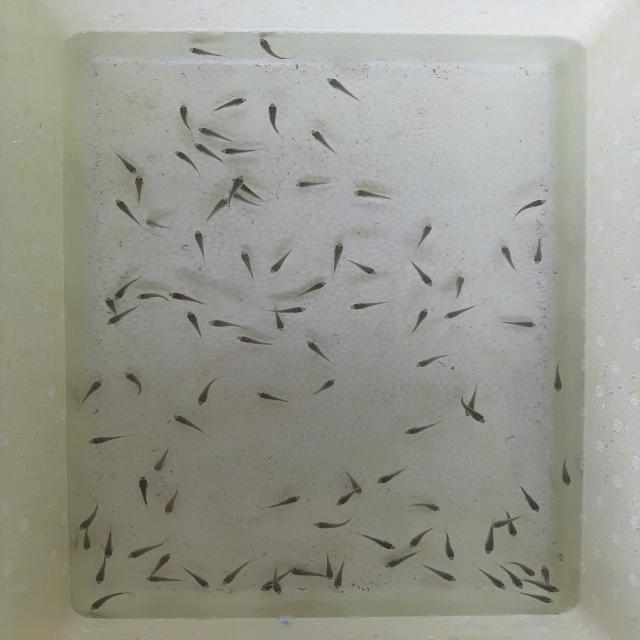fingerling: (323, 74, 369, 108), (169, 410, 217, 441), (253, 32, 294, 64), (508, 194, 550, 224), (301, 125, 342, 155), (258, 98, 290, 136), (254, 491, 308, 513), (406, 255, 439, 289), (76, 375, 106, 412), (88, 588, 133, 612), (180, 42, 231, 63), (196, 374, 228, 407), (220, 556, 253, 588), (267, 244, 299, 275), (187, 225, 212, 264), (120, 368, 148, 402), (407, 302, 434, 337), (208, 94, 250, 116), (410, 218, 437, 252), (411, 350, 454, 371), (252, 388, 297, 408), (108, 147, 140, 175), (442, 300, 481, 322), (517, 484, 545, 514), (494, 241, 520, 273), (355, 531, 396, 551), (327, 241, 348, 280), (291, 279, 329, 300), (202, 196, 230, 224), (77, 501, 104, 530), (406, 524, 436, 550), (476, 566, 506, 592), (402, 418, 443, 437), (162, 484, 186, 516), (350, 187, 395, 204), (400, 498, 442, 516), (84, 432, 131, 448), (310, 514, 357, 530), (304, 339, 335, 363), (151, 443, 175, 474), (288, 177, 337, 192), (234, 333, 276, 350), (421, 565, 458, 584), (238, 248, 258, 283), (196, 125, 237, 142), (136, 471, 154, 508), (374, 467, 407, 487), (492, 316, 538, 330), (167, 290, 207, 306), (438, 529, 458, 561), (130, 175, 151, 205), (183, 310, 204, 340), (449, 270, 470, 300), (219, 144, 270, 156), (530, 233, 548, 267), (350, 258, 380, 278), (141, 216, 176, 233), (548, 360, 565, 395), (310, 376, 339, 396), (124, 542, 154, 561), (557, 455, 574, 488), (205, 317, 245, 331), (133, 289, 168, 305), (114, 277, 137, 301), (91, 558, 110, 587), (347, 299, 389, 312), (111, 198, 134, 221), (188, 570, 214, 590), (152, 549, 174, 572), (142, 573, 188, 584), (176, 100, 191, 132), (382, 554, 412, 570), (190, 140, 218, 157), (466, 381, 483, 409), (102, 311, 129, 328), (482, 528, 498, 556), (229, 174, 244, 203), (102, 525, 114, 560), (170, 148, 193, 166), (287, 567, 324, 578), (323, 551, 336, 581), (282, 304, 312, 316), (532, 592, 554, 608), (78, 533, 95, 552), (333, 564, 345, 590), (273, 314, 288, 334), (537, 582, 562, 594), (100, 294, 116, 312), (334, 491, 352, 507), (472, 410, 488, 426), (538, 563, 552, 580), (518, 564, 536, 577), (510, 574, 524, 590), (506, 522, 519, 538), (490, 518, 506, 528), (260, 582, 272, 594), (273, 584, 283, 596)
